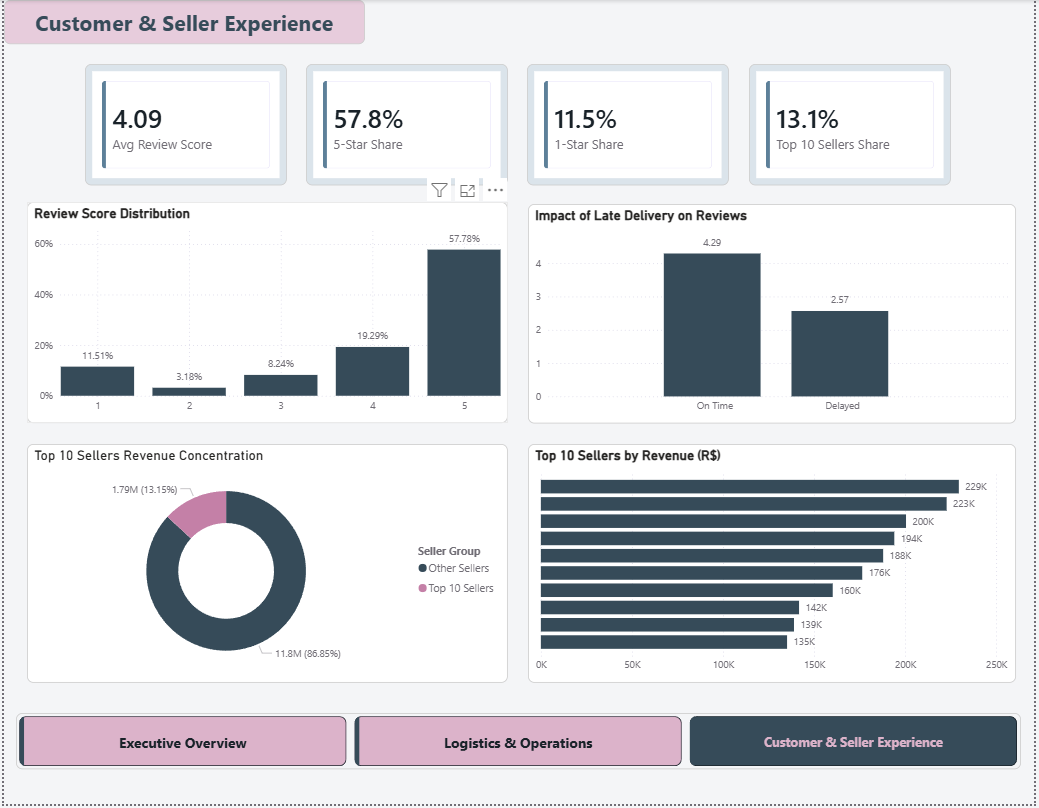

This screenshot's page, from the dashboard's own definition file:
{"tool":"powerbi","page":{"name":"Customer & Seller Experience","canvas":[1280,1000],"ordinal":2},"visuals":[{"type":"textbox","box":[0,0,448.8,55],"z":0},{"type":"cardVisual","fields":{"Data":["olist_order_reviews_dataset.Avg Review Score"]},"box":[100.8,79.9,251.2,151.2],"z":1000},{"type":"cardVisual","fields":{"Data":["olist_order_reviews_dataset.5-Star Share"]},"box":[375.9,79.9,251.2,151.2],"z":2000},{"type":"cardVisual","fields":{"Data":["olist_order_reviews_dataset.1-Star Share"]},"box":[651.1,79.9,251.2,151.2],"z":3000},{"type":"cardVisual","fields":{"Data":["olist_customers_dataset.Top 10 Sellers Share %"]},"box":[926.3,79.8,251.4,151.4],"z":4000},{"type":"clusteredColumnChart","title":"Review Score Distribution","fields":{"Category":["olist_order_reviews_dataset.review_score"],"Y":["CountNonNull(olist_order_reviews_dataset.review_id)"]},"box":[28.3,251.7,598.3,275],"z":5000},{"type":"columnChart","title":"Impact of Late Delivery on Reviews","fields":{"Category":["olist_orders_dataset.Delivery Status"],"Y":["Avg(olist_order_reviews_dataset.review_score)"]},"box":[651.7,253.3,606.7,273.3],"z":6000},{"type":"donutChart","title":"Top 10 Sellers Revenue Concentration","fields":{"Category":["olist_sellers_dataset.Seller Group"],"Y":["Sum(olist_order_items_dataset.price)"]},"box":[28.3,551.7,598.3,296.7],"z":7000},{"type":"clusteredBarChart","title":"Top 10 Sellers by Revenue (R$)","fields":{"Category":["olist_sellers_dataset.seller_id"],"Y":["Sum(olist_order_items_dataset.price)"]},"box":[651.7,551.7,606.7,296.7],"z":8000},{"type":"pageNavigator","box":[15,886.7,1250,70],"z":9000}]}

Visuals, with their boxes in screenshot pixels (x1, y1, x2, y2), scaled from the page's 1280x1000 canvas onto the 1039x808 screenshot:
textbox: x1=0 y1=0 x2=364 y2=44
cardVisual - olist_order_reviews_dataset.Avg Review Score: x1=82 y1=65 x2=286 y2=187
cardVisual - olist_order_reviews_dataset.5-Star Share: x1=305 y1=65 x2=509 y2=187
cardVisual - olist_order_reviews_dataset.1-Star Share: x1=529 y1=65 x2=732 y2=187
cardVisual - olist_customers_dataset.Top 10 Sellers Share %: x1=752 y1=64 x2=956 y2=187
"Review Score Distribution" clusteredColumnChart: x1=23 y1=203 x2=509 y2=426
"Impact of Late Delivery on Reviews" columnChart: x1=529 y1=205 x2=1021 y2=425
"Top 10 Sellers Revenue Concentration" donutChart: x1=23 y1=446 x2=509 y2=686
"Top 10 Sellers by Revenue (R$)" clusteredBarChart: x1=529 y1=446 x2=1021 y2=686
pageNavigator: x1=12 y1=716 x2=1027 y2=773
